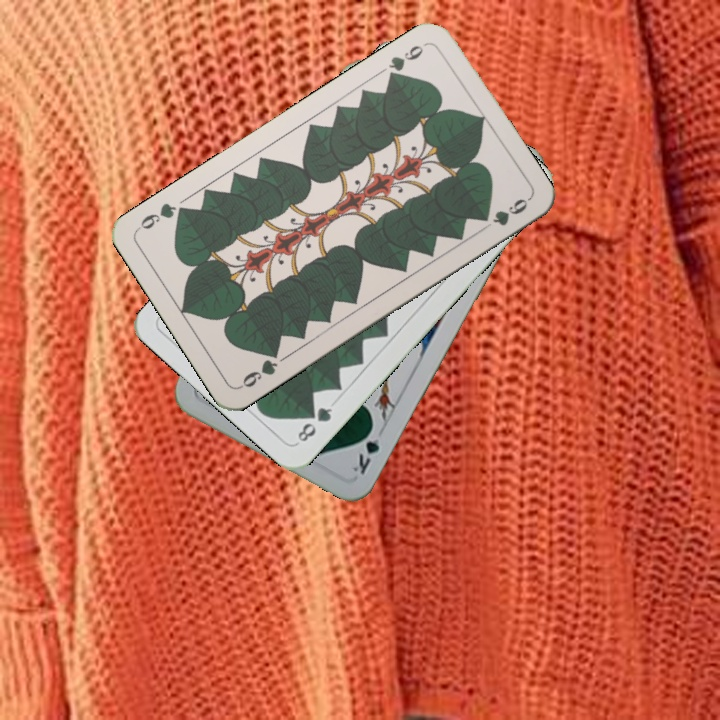G8: (292, 403, 335, 447)
G9: (236, 345, 282, 391), (383, 41, 426, 84)
GK: (348, 420, 382, 478)
